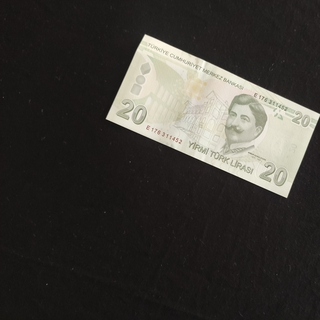20TLBack: (104, 33, 320, 199)
